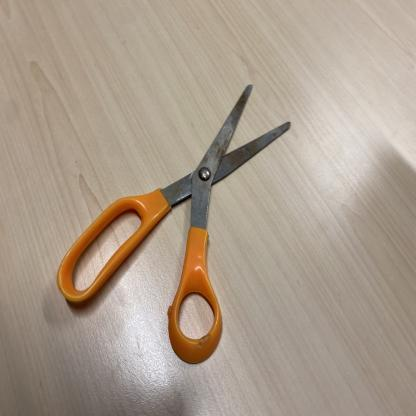scissors: (53, 86, 294, 366)
